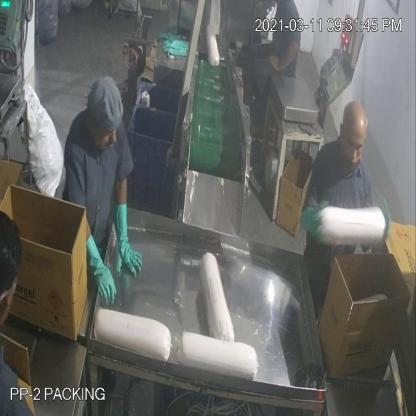glove: (81, 229, 123, 314), (112, 199, 140, 281)
no_glove: (270, 43, 301, 79)
